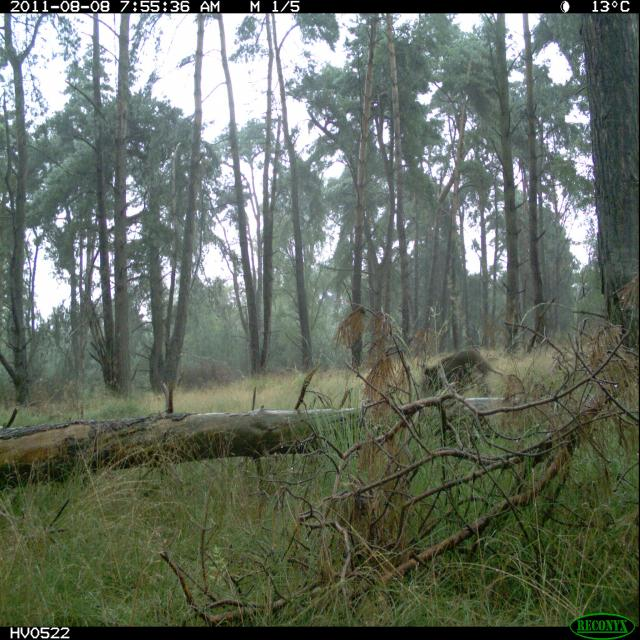boar: (399, 318, 505, 426)
